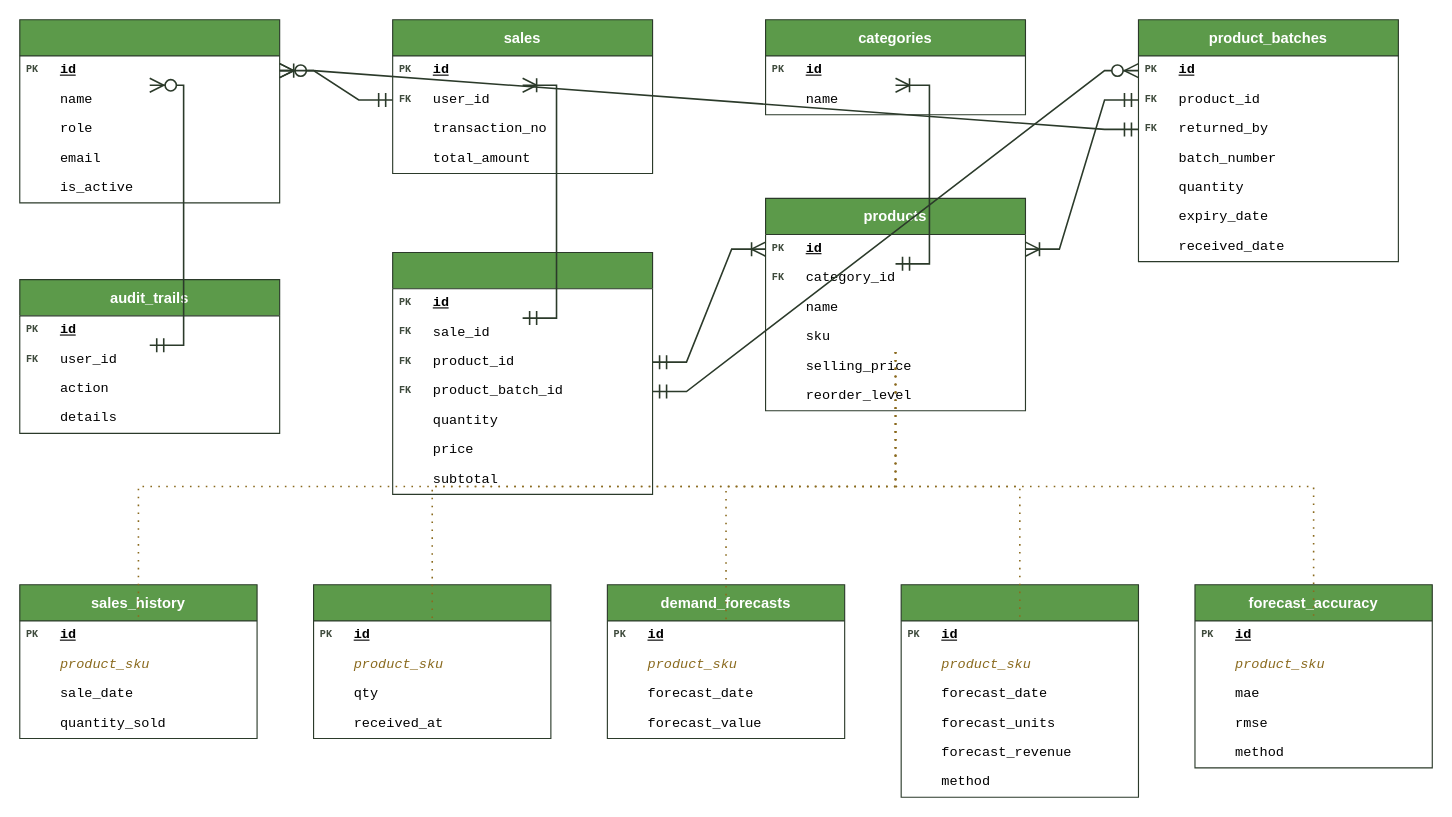
Some shapes in this 1452 by 817 pixel diagram are drawn without their labels. Here are the shapes that lost their labels. From the top down, the box of each, then its label:
(19, 19, 280, 203): users
(392, 251, 653, 494): sale_items
(312, 584, 551, 738): inventory_receipts
(900, 584, 1138, 797): sales_forecasts
